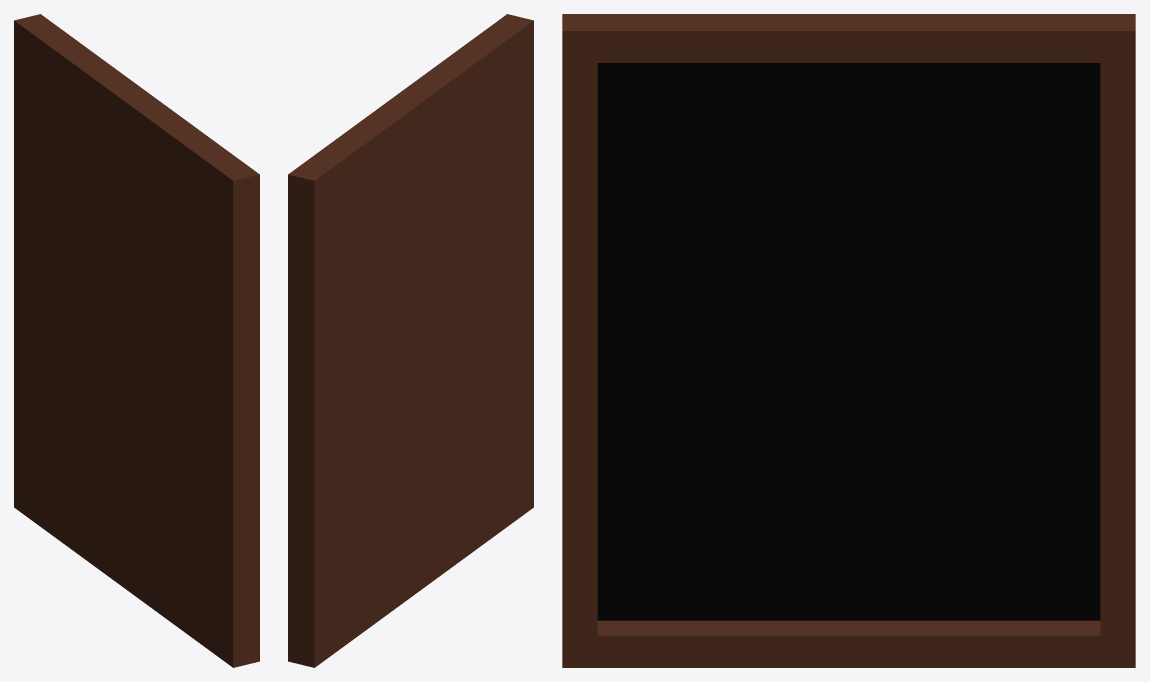
Rendered from Quadro 1.fbx.
3 views of the same model, side by side, from view 1: azimuth 30°, elevation 25°; view 2: azimuth 150°, elevation 25°; view 3: azimuth 270°, elevation 25° (orthographic). The views are drawn at different scales.
Parts seen in each view (by area): view 1: Cube; view 2: Cube; view 3: Cube.
Part boxes in pixels (<box>): Cube: <box>14,14,259,667</box>; Cube: <box>288,14,533,667</box>; Cube: <box>562,14,1135,667</box>.
Bounding box in the file's own units: 31.6 × 555 × 452.
